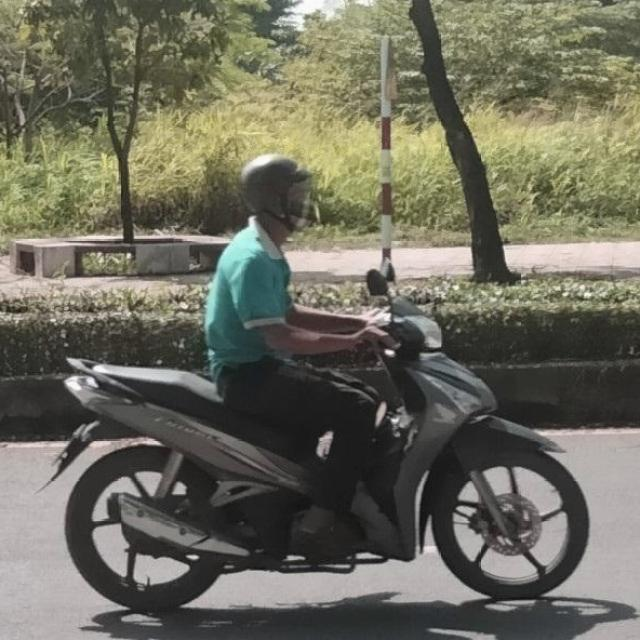Helmet: (238, 148, 320, 237)
